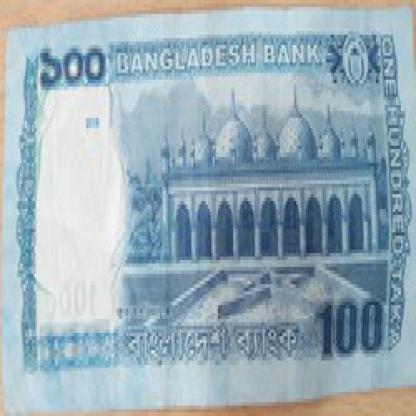one hundred taka: (312, 291, 384, 364), (37, 42, 108, 94)
